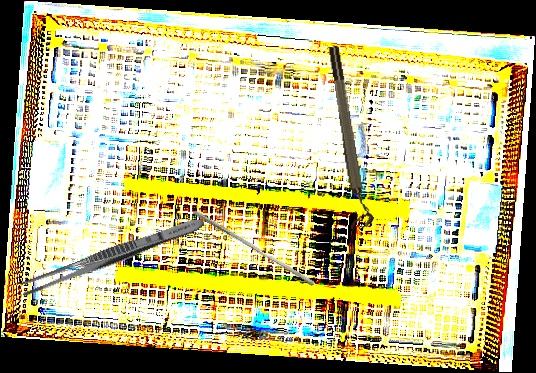Dressing Forceps: (18, 212, 207, 300)
Fixation Ring: (325, 44, 375, 229)
Pusher: (189, 209, 318, 287)
